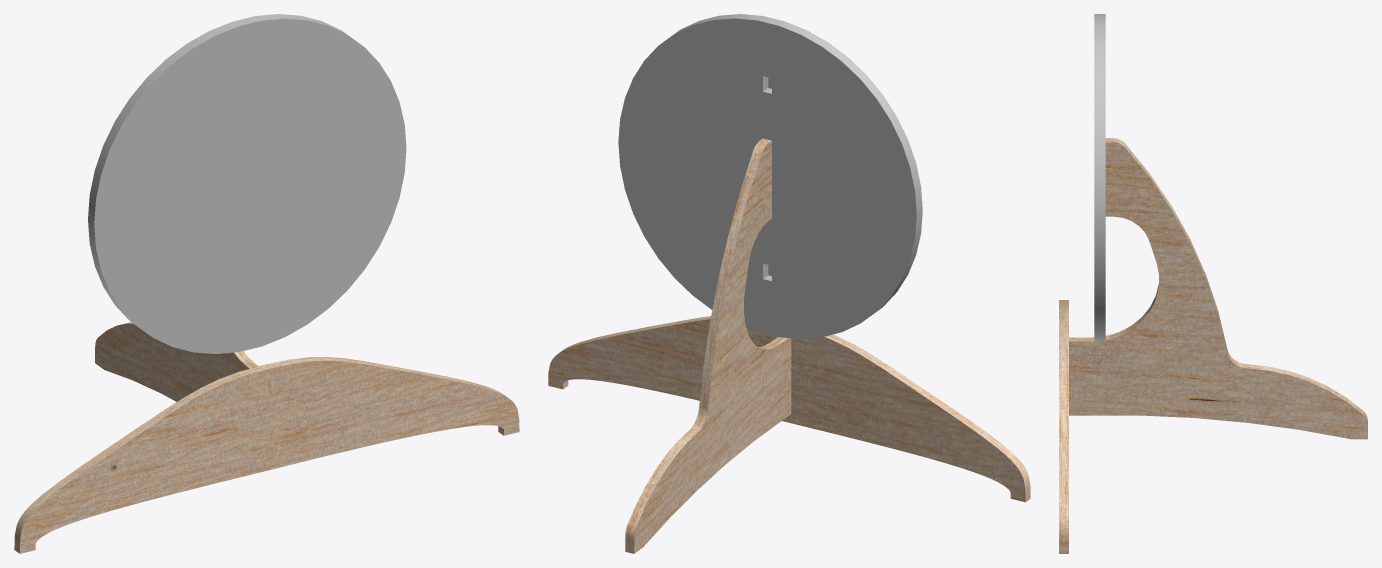
File: VorbeifahrtRechts_pedestrian.dae
The picture shows the model from 3 angles, left to right: view 1: azimuth 30°, elevation 25°; view 2: azimuth 150°, elevation 25°; view 3: azimuth 270°, elevation 25°; orthographic projection. The views are drawn at different scales.
Parts seen in each view (by area): view 1: Body1_1, Body1, Body3; view 2: Body1_1, Body1, Body3; view 3: Body3, Body1_1, Body1.
Boxes of the visible parts, <box> form: Body1_1: <box>88,14,406,353</box>; Body1: <box>14,357,519,553</box>; Body3: <box>95,322,274,461</box>; Body1_1: <box>618,14,922,338</box>; Body1: <box>548,316,1030,502</box>; Body3: <box>625,138,791,553</box>; Body3: <box>1069,138,1367,439</box>; Body1_1: <box>1094,14,1105,340</box>; Body1: <box>1059,300,1068,553</box>.
Size of the model in its own units: 160 by 94.22 by 139.
